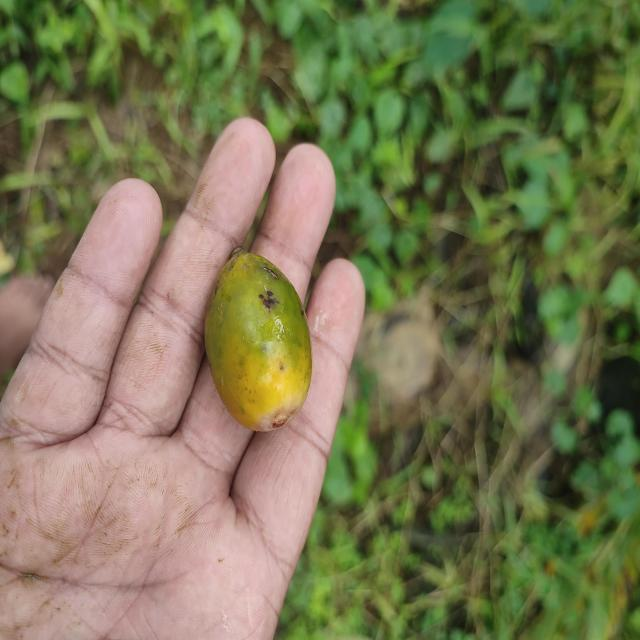good: (202, 252, 313, 433)
